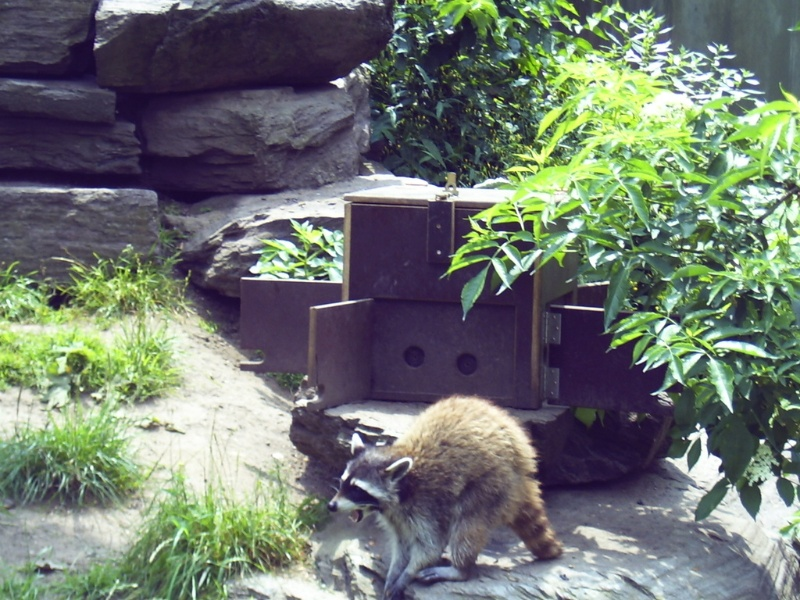raccoon: (326, 394, 579, 595)
